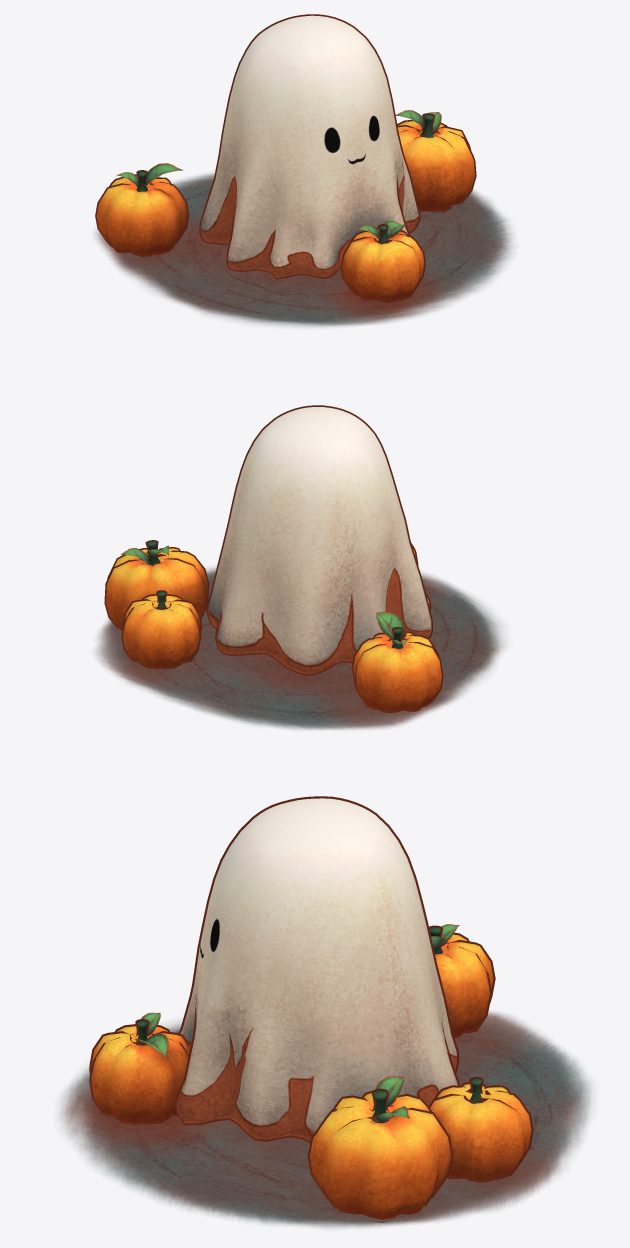
The model's file is cute_ghost.glb.
The picture shows the model from 3 angles, top to bottom: view 1: azimuth 30°, elevation 25°; view 2: azimuth 150°, elevation 25°; view 3: azimuth 270°, elevation 25°; orthographic projection. The views are drawn at different scales.
Parts seen in each view (by area): view 1: Ghost, Ground, Ghost.002, Ghost.001; view 2: Ghost, Ground, Ghost.002, Ghost.001; view 3: Ghost, Ground, Ghost.002, Ghost.001.
Boxes of the visible parts, left/top/right/bottom form: Ghost: left=96, top=15, right=474, bottom=301; Ground: left=95, top=173, right=513, bottom=326; Ghost.002: left=95, top=14, right=476, bottom=303; Ghost.001: left=116, top=110, right=441, bottom=239; Ghost: left=106, top=407, right=441, bottom=711; Ground: left=95, top=567, right=504, bottom=729; Ghost.002: left=104, top=405, right=443, bottom=713; Ghost.001: left=120, top=545, right=408, bottom=645; Ghost: left=91, top=798, right=531, bottom=1219; Ground: left=60, top=1011, right=591, bottom=1228; Ghost.002: left=89, top=796, right=533, bottom=1222; Ghost.001: left=134, top=924, right=459, bottom=1121.
Size of the model in its own units: 5.28 by 3.13 by 5.47.
3 materials, 2 textured.
